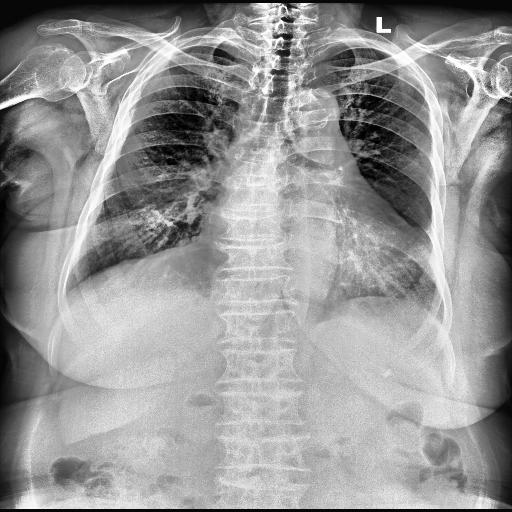0- Aortic enlargement: (275, 89, 343, 144), (286, 85, 342, 141), (284, 88, 338, 126)
3- Cardiomegaly: (193, 198, 431, 300), (195, 184, 431, 280), (196, 212, 426, 270)
